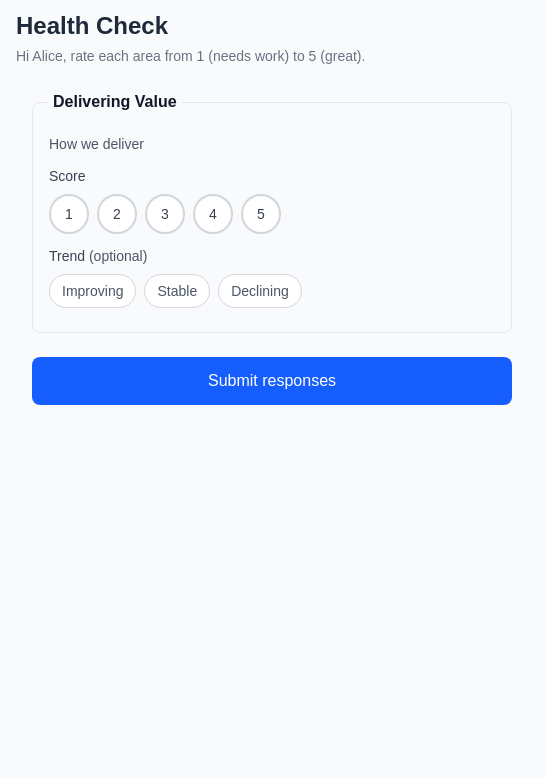
Test case: the confirmation carries the time it was saved › changes when a second update lands
Click the radio button labelled "4": coordinates (213, 214) [193, 194, 233, 234]
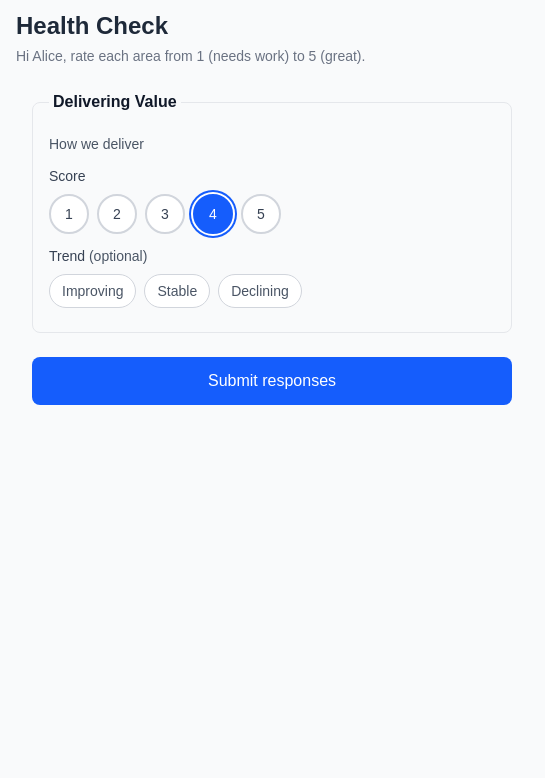
Click the button "Submit responses": coordinates (272, 381) [32, 357, 512, 405]
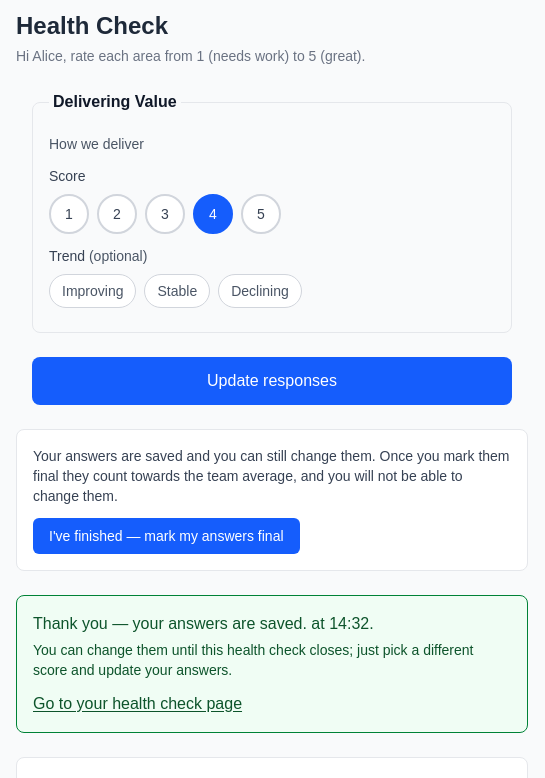
Now the message is shown, box [16, 595, 528, 733]
Click the radio button labelled "2": coordinates (117, 214) [97, 194, 137, 234]
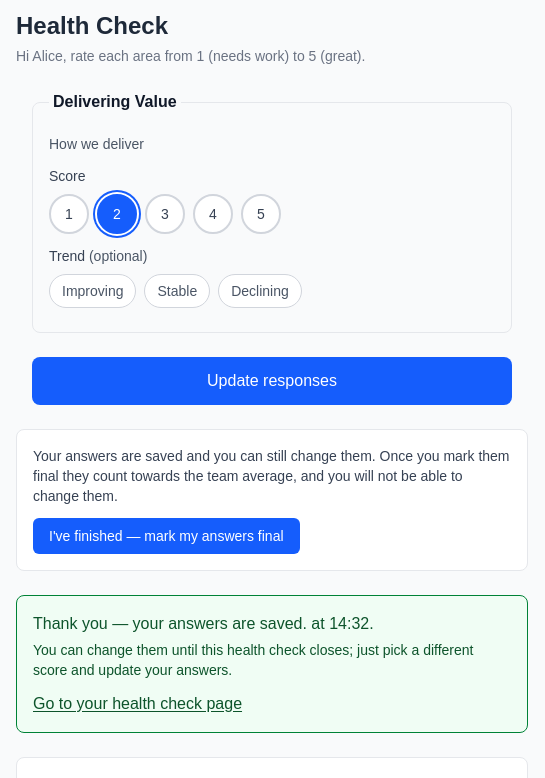
Click the button "Update responses": coordinates (272, 381) [32, 357, 512, 405]
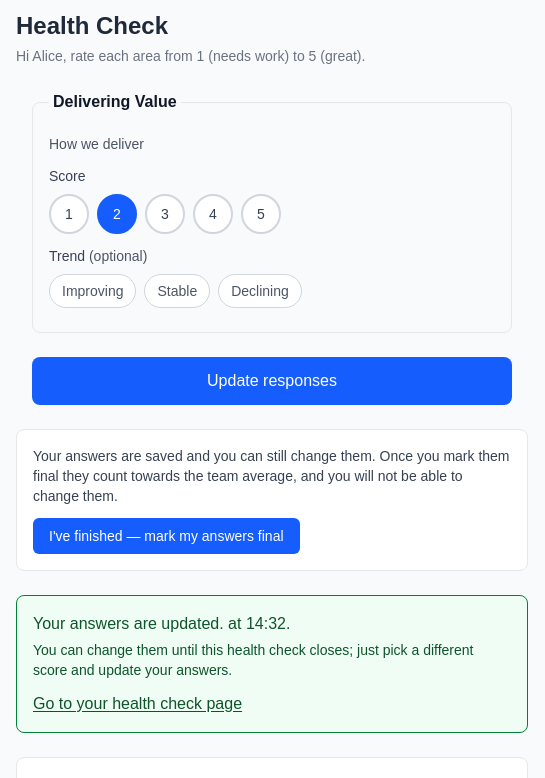
Now the message shows "updated", box [33, 615, 224, 632]
Click the radio button labelled "5": coordinates (261, 214) [241, 194, 281, 234]
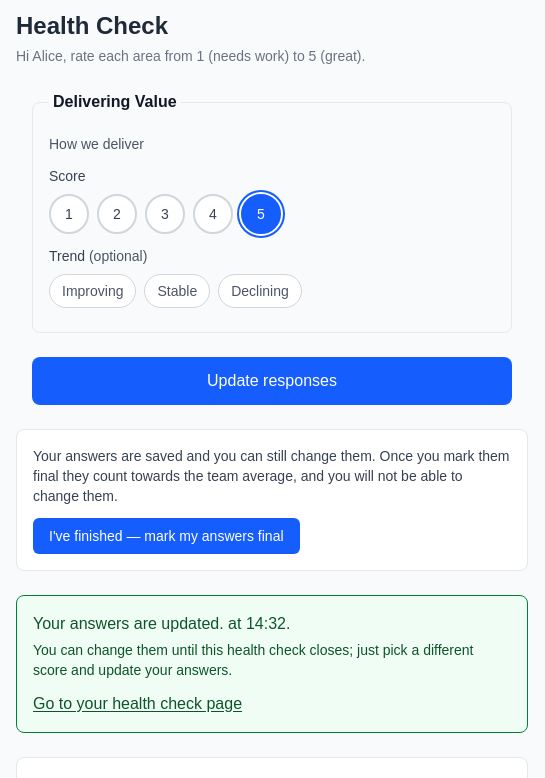
Click the button "Update responses": coordinates (272, 381) [32, 357, 512, 405]
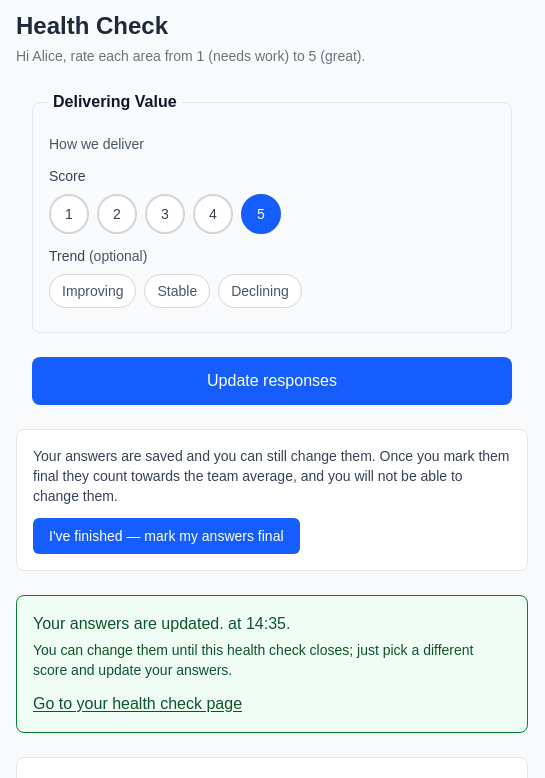
Now the message shows "14:35", box [246, 615, 286, 632]
